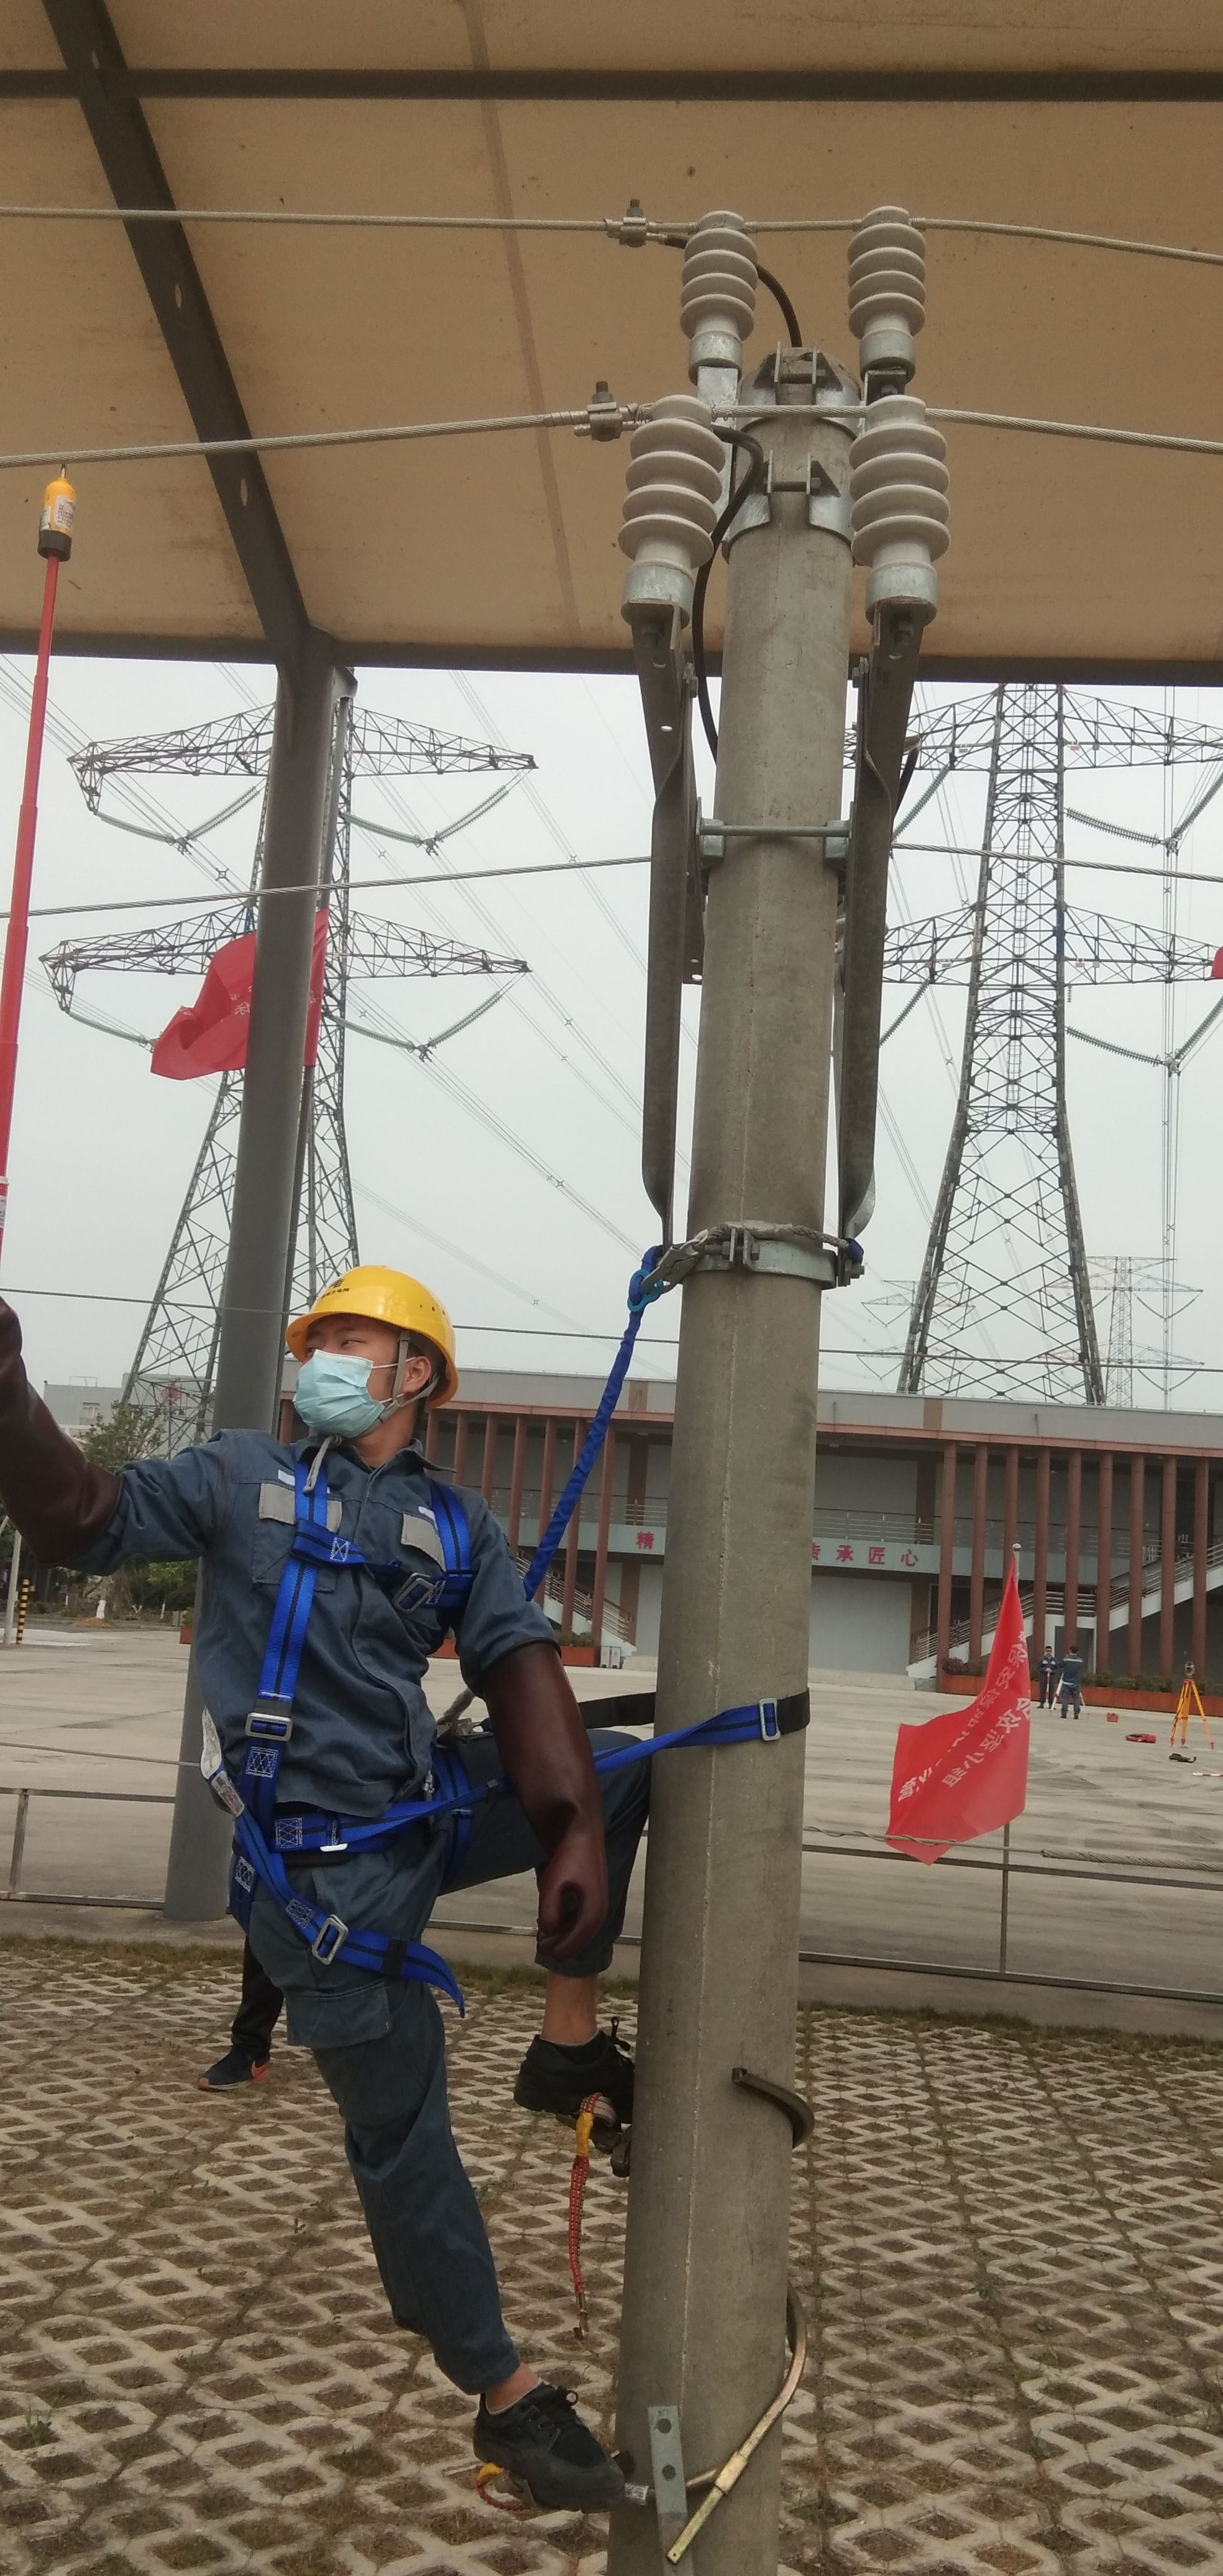downsuit: (241, 1812, 588, 2397)
upsuit: (118, 1423, 507, 1789)
